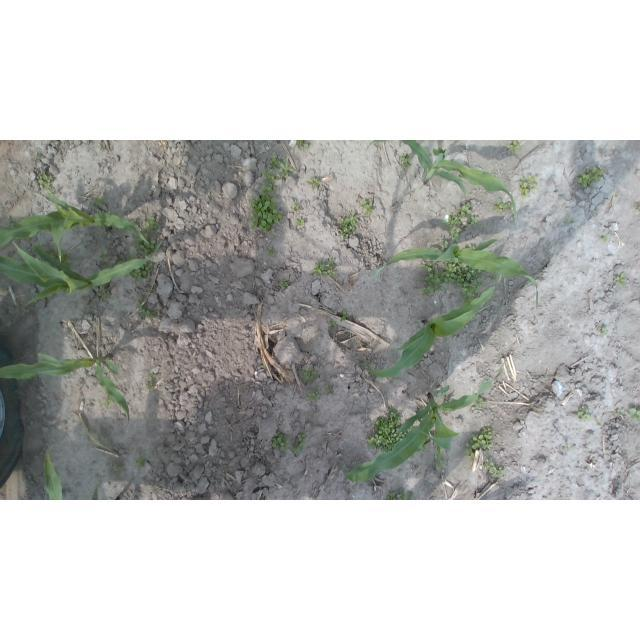Maize: (343, 365, 505, 484), (362, 283, 496, 380), (371, 237, 538, 311), (1, 239, 163, 305), (1, 195, 152, 264), (398, 140, 519, 226), (1, 352, 130, 425), (42, 442, 122, 500)
Weeds: (250, 154, 291, 234), (421, 259, 481, 300), (367, 410, 417, 453), (133, 216, 160, 280), (442, 202, 479, 247), (466, 426, 495, 458), (31, 245, 71, 268), (272, 433, 308, 451), (137, 292, 157, 321), (575, 168, 602, 189), (518, 178, 537, 199), (341, 216, 359, 237), (315, 261, 340, 276), (491, 197, 513, 213), (385, 489, 415, 500), (484, 462, 505, 477), (293, 205, 304, 232), (38, 173, 54, 189), (98, 284, 114, 299), (628, 408, 640, 421), (579, 406, 590, 420), (306, 392, 319, 403), (362, 201, 373, 214), (301, 370, 315, 380), (94, 201, 106, 212), (308, 177, 320, 188), (593, 417, 606, 427), (615, 408, 625, 421), (298, 141, 311, 151), (476, 400, 486, 411), (600, 325, 609, 337), (614, 274, 626, 283), (509, 141, 520, 150), (149, 375, 156, 389), (403, 158, 412, 167), (97, 253, 107, 261), (279, 280, 288, 287), (341, 312, 348, 321), (602, 236, 610, 243), (105, 397, 111, 406), (115, 467, 124, 473), (138, 458, 145, 465), (267, 249, 273, 256), (330, 321, 336, 327), (567, 445, 572, 451)
